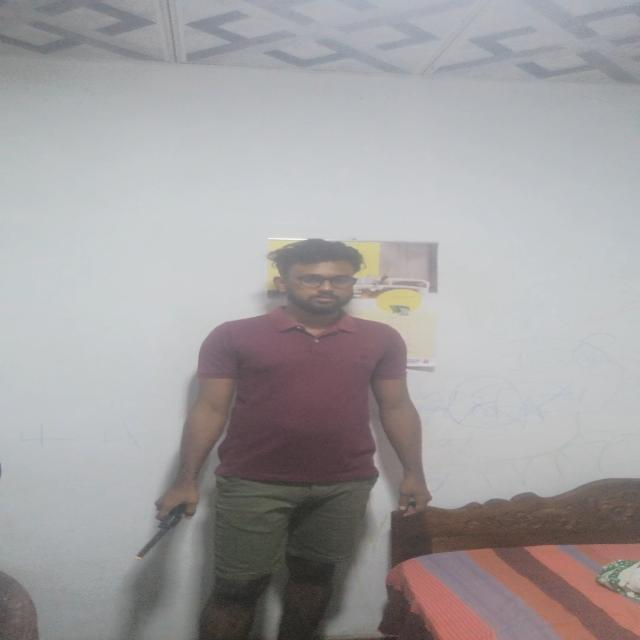Gun_Holder: (117, 491, 216, 562)
Person: (145, 235, 427, 640)
